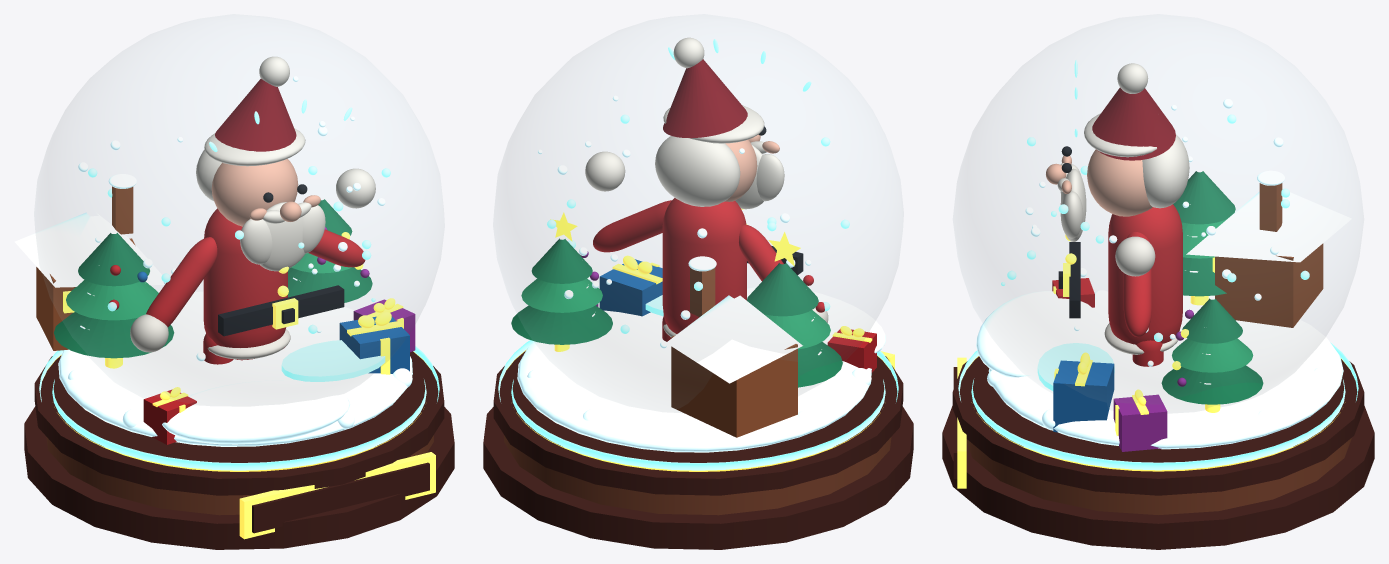
Rendered from SampleScene.unity.glb.
3 views of the same model, side by side, from view 1: azimuth 30°, elevation 25°; view 2: azimuth 150°, elevation 25°; view 3: azimuth 270°, elevation 25° (orthographic).
Parts seen in each view (by area): view 1: Upper Wood Crown, Snowy Hill, Lower Mahogany Plinth, Front Snow Drift, Velvet Coat, Evergreen Layer 1 (×2), Front Plaque Insert, Snowy Roof, Box (×3), Head, Carved Wood Body, Santa Hat (+21 smaller); view 2: Snowy Hill, Upper Wood Crown, Lower Mahogany Plinth, Cabin Walls, Velvet Coat, Carved Wood Body, Snowy Roof, Hair Back, Evergreen Layer 1 (×2), Evergreen Layer 3 (×2), Santa Hat, Crystal Seat Ring (+13 smaller); view 3: Upper Wood Crown, Snowy Hill, Lower Mahogany Plinth, Carved Wood Body, Front Snow Drift, Velvet Coat, Cabin Walls, Snowy Roof, Box (×2), Evergreen Layer 1 (×2), Evergreen Layer 3 (×2), Santa Hat (+17 smaller).
Boxes of the visible parts, bbox=[...] form: Upper Wood Crown: bbox=[34, 351, 444, 495]; Snowy Hill: bbox=[58, 291, 412, 446]; Lower Mahogany Plinth: bbox=[24, 406, 454, 549]; Front Snow Drift: bbox=[162, 380, 349, 444]; Velvet Coat: bbox=[203, 208, 287, 360]; Evergreen Layer 1 (×2): bbox=[54, 267, 372, 358]; Front Plaque Insert: bbox=[252, 462, 429, 533]; Snowy Roof: bbox=[14, 212, 164, 287]; Box (×3): bbox=[143, 299, 415, 444]; Head: bbox=[211, 159, 298, 226]; Carved Wood Body: bbox=[46, 435, 433, 515]; Santa Hat: bbox=[215, 79, 296, 151]; Snowy Hill: bbox=[517, 310, 871, 452]; Upper Wood Crown: bbox=[493, 351, 903, 495]; Lower Mahogany Plinth: bbox=[483, 406, 913, 549]; Cabin Walls: bbox=[671, 335, 797, 437]; Velvet Coat: bbox=[662, 198, 746, 333]; Carved Wood Body: bbox=[504, 435, 891, 515]; Snowy Roof: bbox=[666, 295, 802, 383]; Hair Back: bbox=[655, 136, 740, 206]; Evergreen Layer 1 (×2): bbox=[511, 305, 842, 387]; Evergreen Layer 3 (×2): bbox=[531, 238, 818, 316]; Santa Hat: bbox=[663, 59, 747, 138]; Crystal Seat Ring: bbox=[498, 340, 898, 470]; Upper Wood Crown: bbox=[952, 356, 1364, 495]; Snowy Hill: bbox=[988, 295, 1343, 449]; Lower Mahogany Plinth: bbox=[942, 406, 1374, 549]; Carved Wood Body: bbox=[966, 438, 1351, 514]; Front Snow Drift: bbox=[976, 291, 1095, 377]; Velvet Coat: bbox=[1108, 204, 1182, 344]; Cabin Walls: bbox=[1215, 243, 1323, 327]; Snowy Roof: bbox=[1186, 189, 1351, 262]; Box (×2): bbox=[1053, 360, 1167, 451]; Evergreen Layer 1 (×2): bbox=[1161, 257, 1263, 404]; Evergreen Layer 3 (×2): bbox=[1173, 171, 1242, 343]; Santa Hat: bbox=[1092, 87, 1175, 160].
Bounding box in the file's own units: 0.84 × 0.913 × 0.84.
